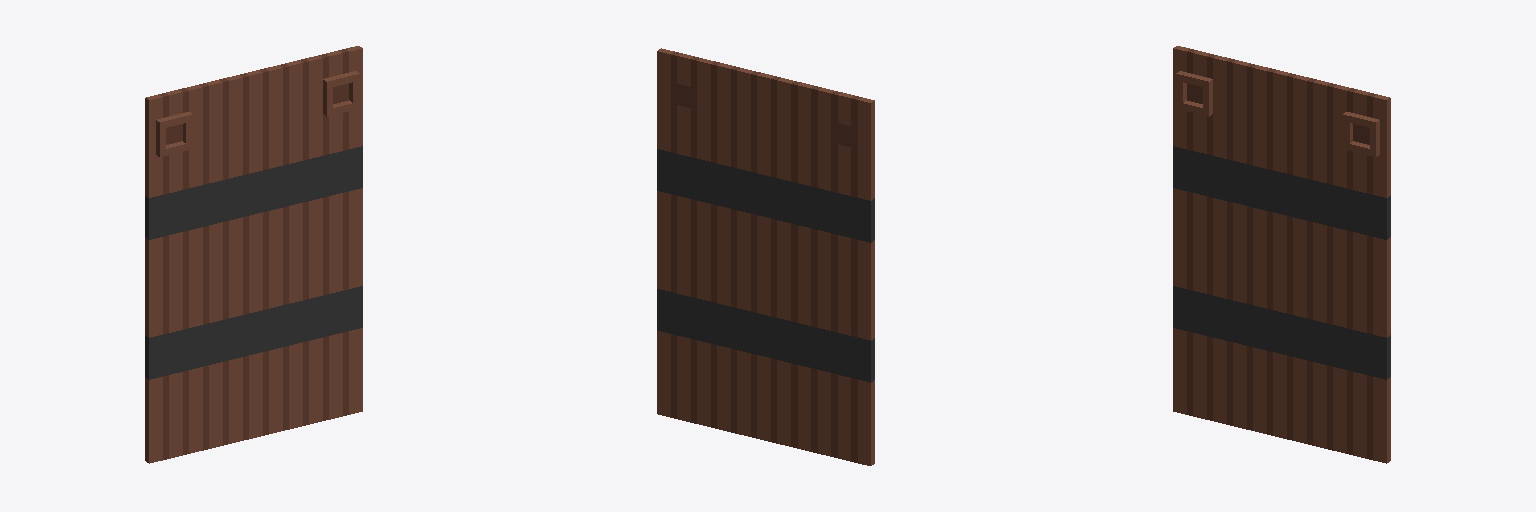
The picture shows the model from 3 angles: view 1: azimuth 30°, elevation 25°; view 2: azimuth 150°, elevation 25°; view 3: azimuth 330°, elevation 25°; orthographic projection.
Visible parts, largest first — view 1: object 1; view 2: object 1; view 3: object 1.
Part boxes in pixels (left/top/right/bottom): object 1: left=145, top=46, right=362, bottom=463; object 1: left=657, top=48, right=874, bottom=465; object 1: left=1173, top=46, right=1390, bottom=463.
Size of the model in its own units: 3.2 by 5.2 by 0.2.
Materials: 1 (1 with a texture image).